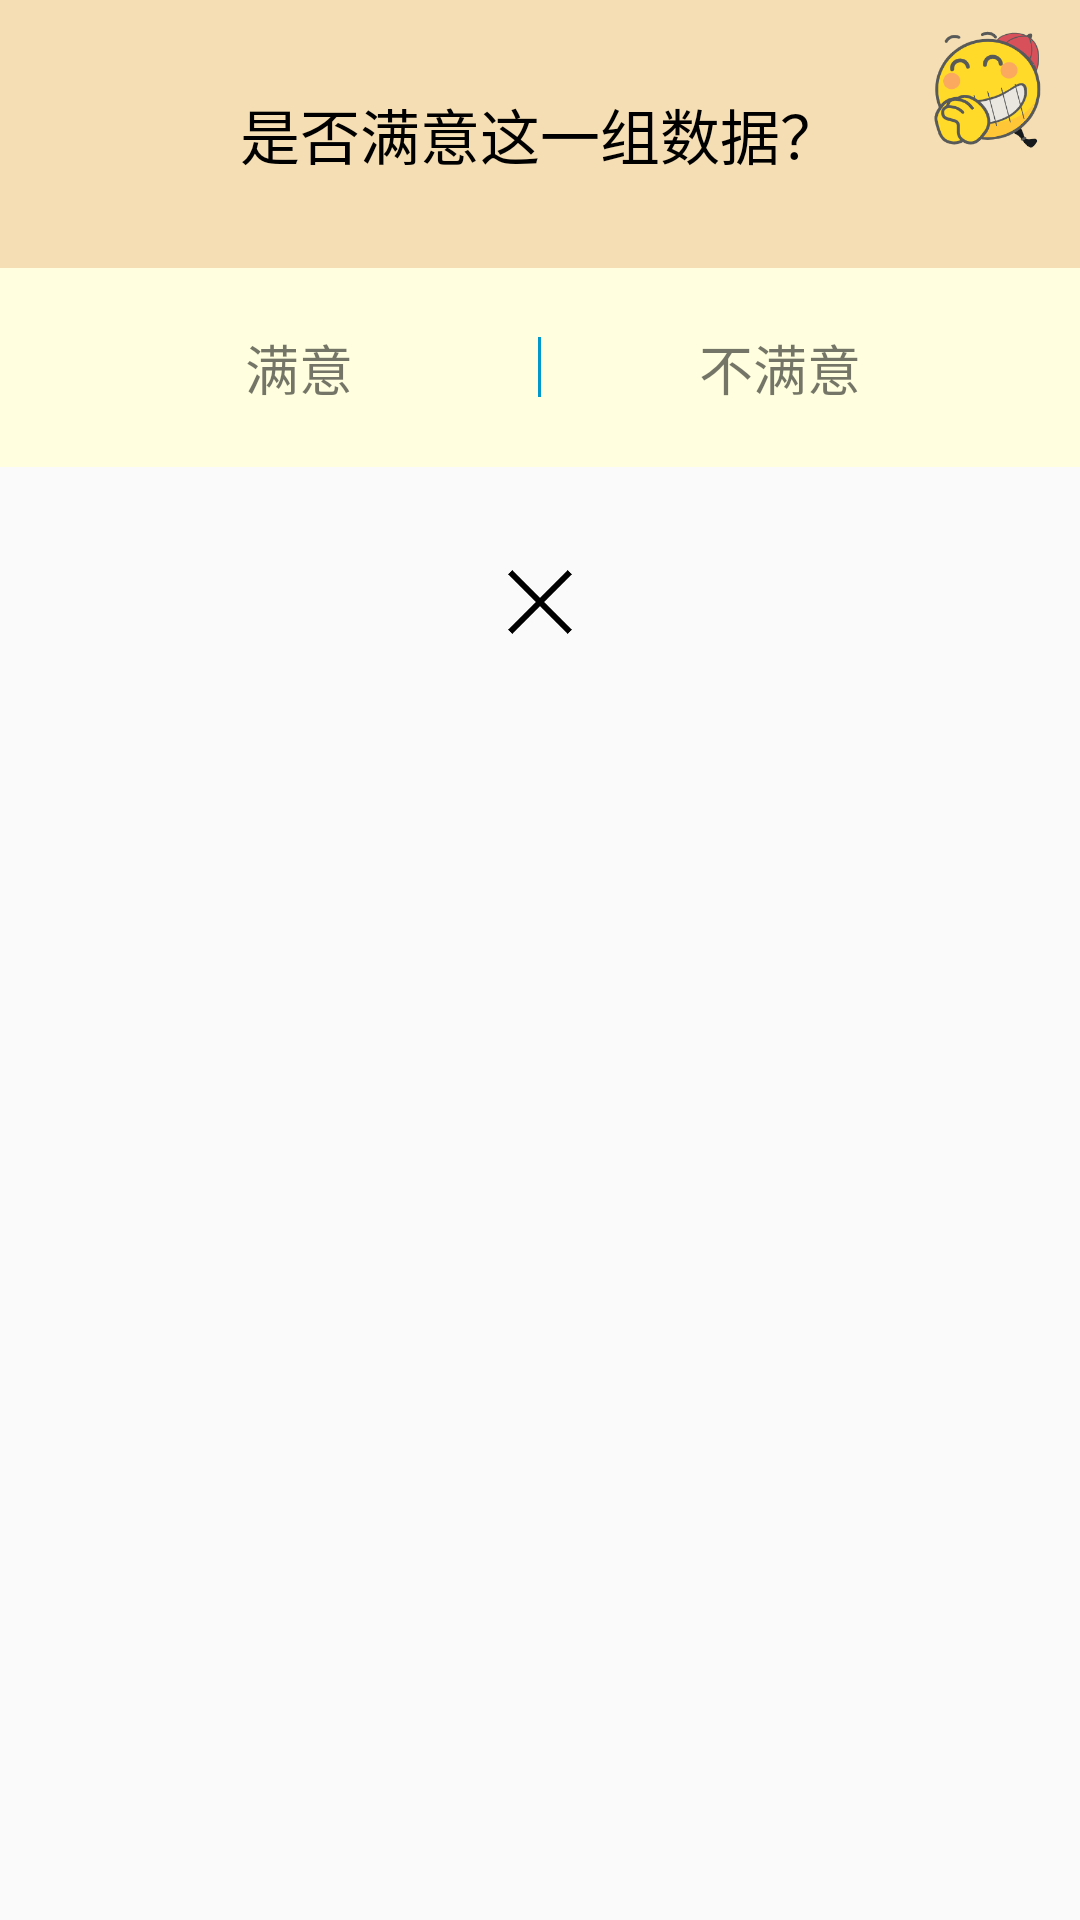

Icon click points for this 1080×1920 phone screenshot, format [x,y]:
close: [540,602]
congratulation: [987,89]
